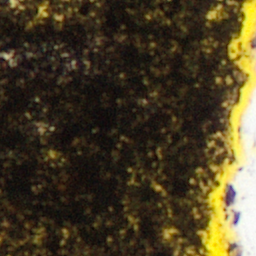cement_matrix: (0, 0, 245, 255), (212, 11, 217, 15)
cracks: (202, 0, 255, 255)
gravel_crushed_stones: (229, 83, 255, 255), (254, 52, 255, 71), (13, 0, 18, 3), (213, 12, 216, 14)
